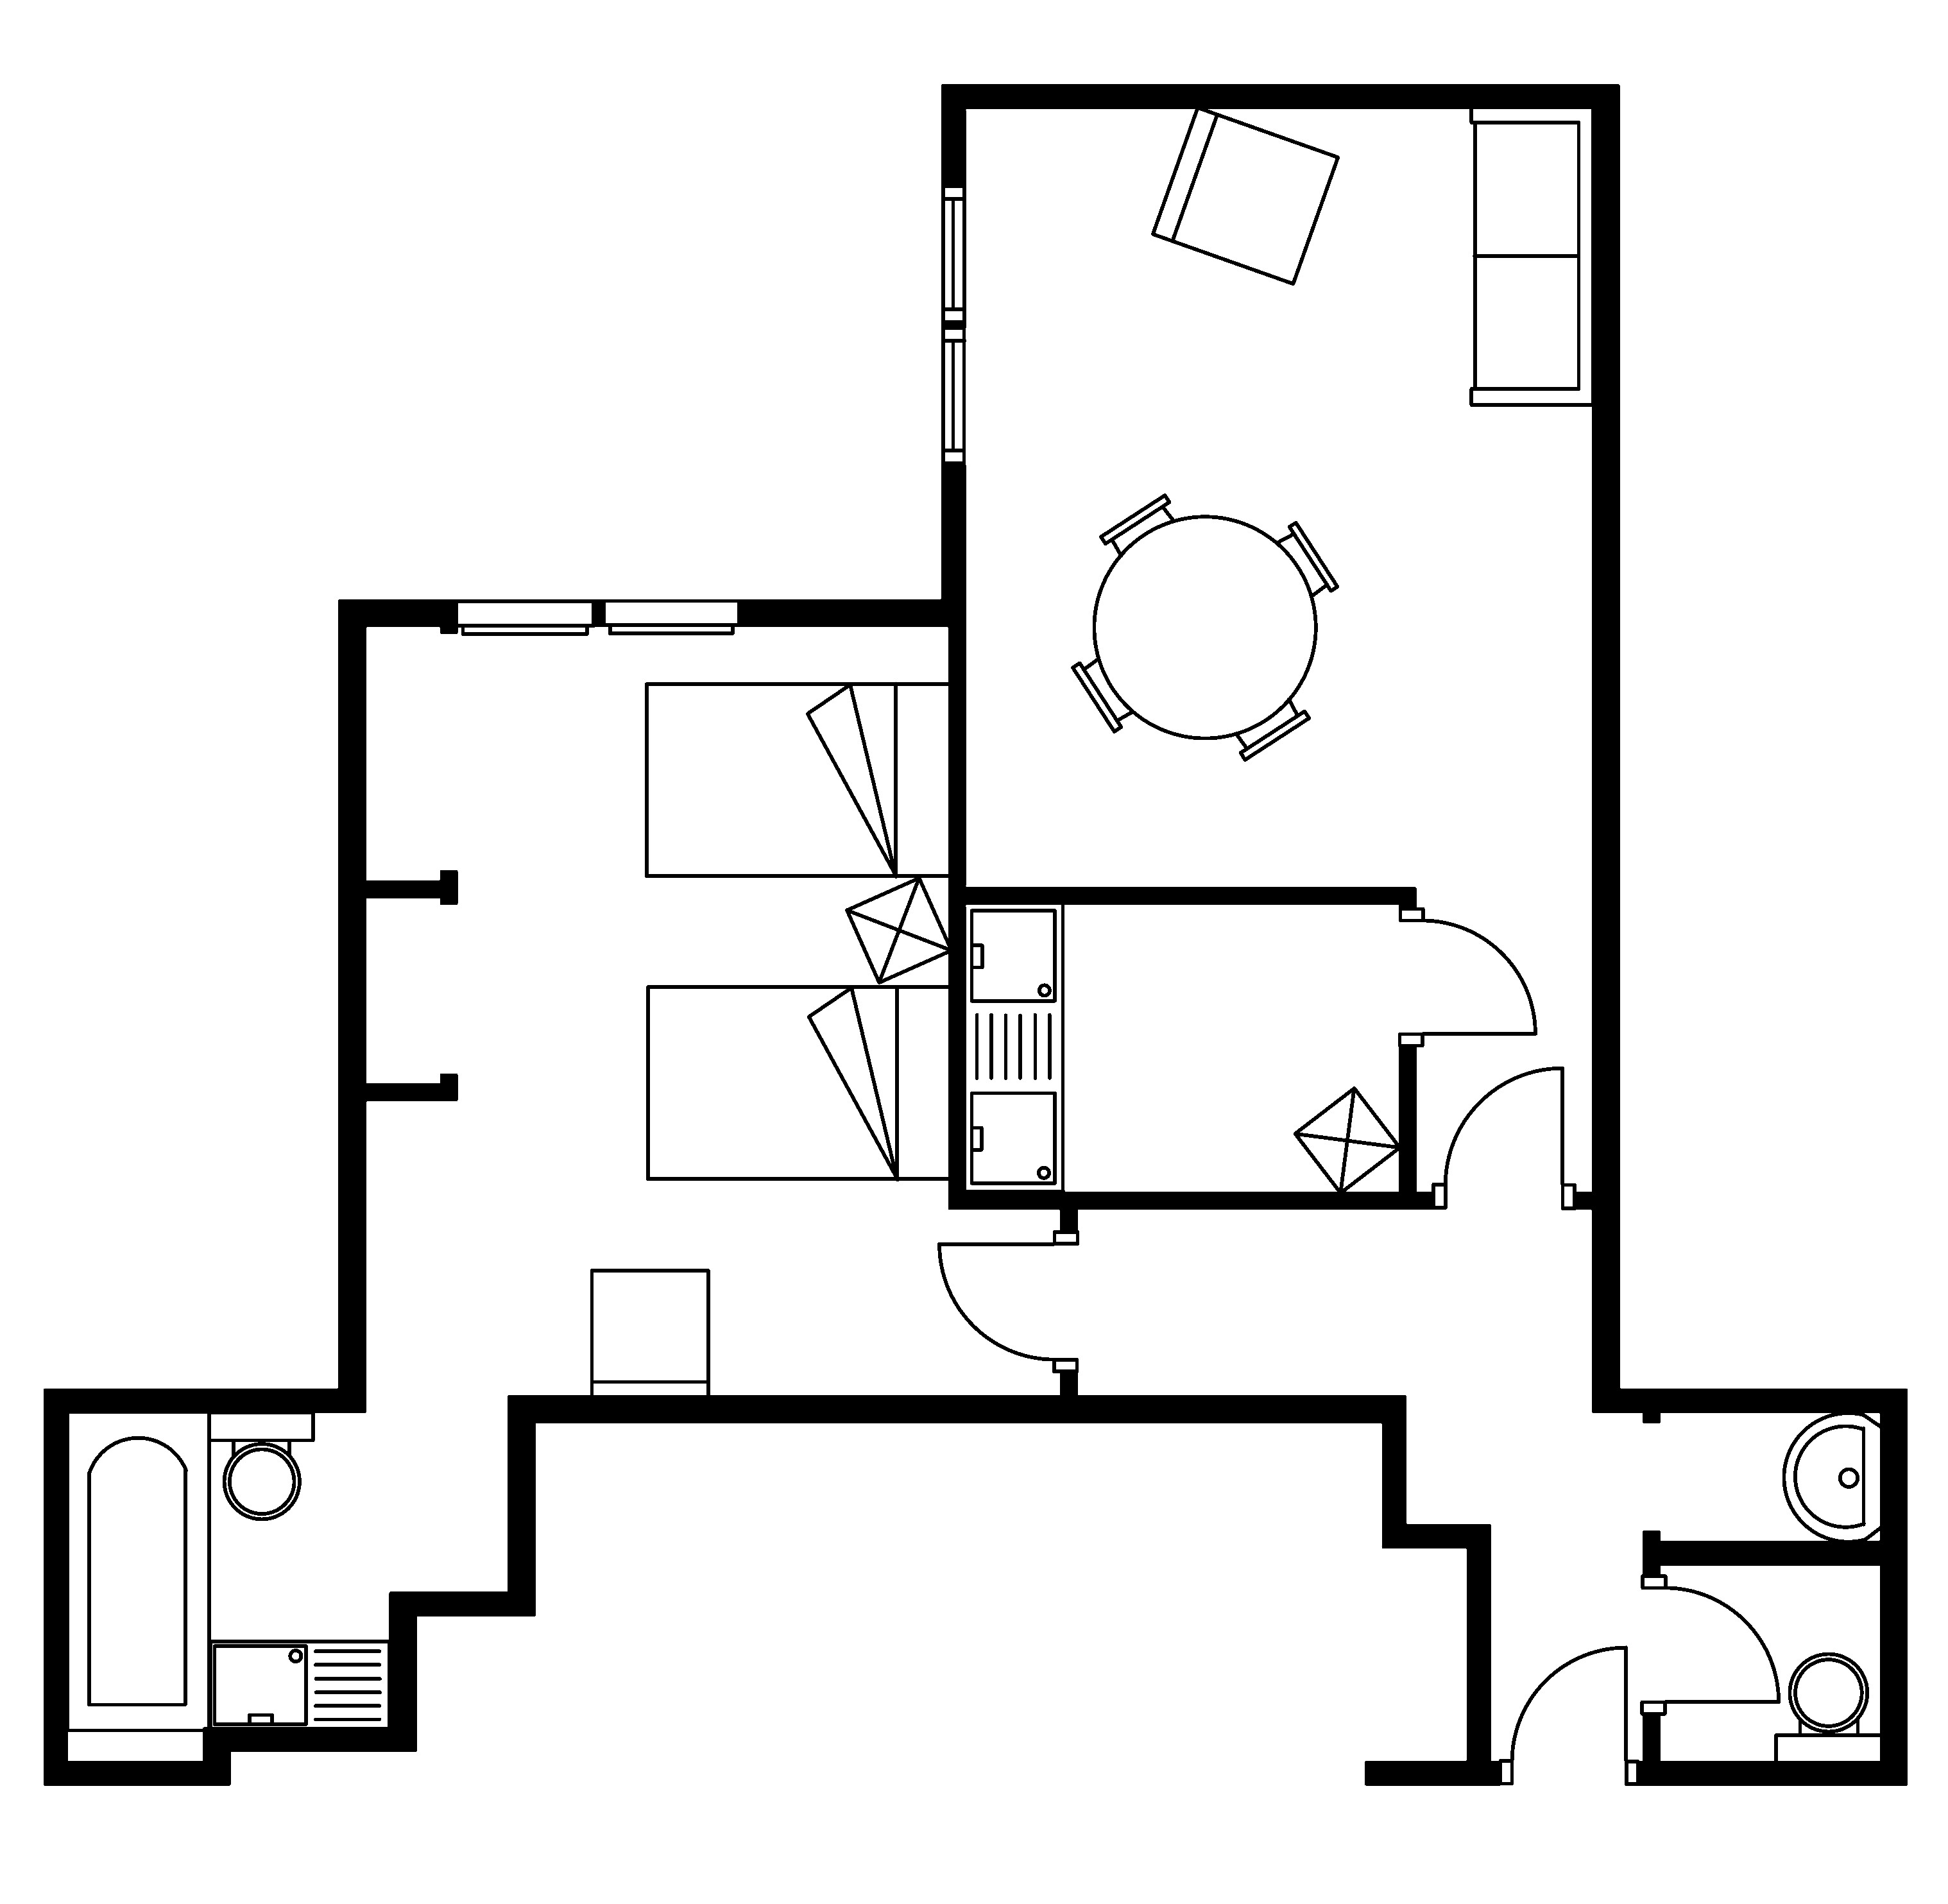bed: (644, 680, 952, 879), (645, 983, 954, 1182)
coffee_table: (1292, 1085, 1402, 1194), (844, 875, 952, 985)
large_sink: (1774, 1653, 1885, 1766), (206, 1411, 316, 1520)
large_sofa: (1468, 105, 1596, 406)
round_table: (1069, 492, 1339, 762)
sink: (208, 1639, 391, 1731)
small_sink: (1782, 1411, 1883, 1543)
small_sofa: (1149, 105, 1339, 286), (589, 1268, 710, 1402)
tub: (65, 1409, 211, 1733)
twin_sink: (961, 900, 1066, 1194)
